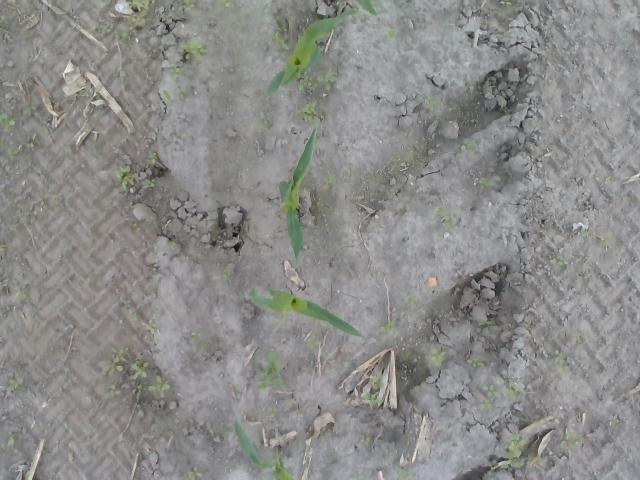Maize: (264, 10, 354, 98), (244, 286, 364, 338), (278, 128, 316, 268), (233, 416, 295, 480), (352, 0, 380, 17)
Weeds: (104, 344, 170, 400), (495, 432, 529, 469), (256, 351, 284, 390), (298, 72, 338, 92), (361, 374, 384, 408), (176, 37, 208, 61), (431, 204, 458, 232), (126, 0, 152, 28), (116, 164, 141, 192), (479, 384, 521, 399), (298, 101, 320, 127), (559, 427, 584, 449), (270, 23, 290, 49), (460, 134, 481, 153), (392, 464, 416, 480), (32, 191, 52, 210), (380, 318, 399, 338), (430, 346, 448, 366), (190, 331, 208, 349), (112, 64, 130, 81), (548, 254, 571, 266), (0, 112, 17, 128), (184, 466, 203, 480), (168, 64, 184, 80), (554, 350, 568, 368), (306, 335, 322, 350), (424, 94, 440, 108), (322, 176, 337, 190), (479, 176, 492, 192), (113, 30, 129, 43), (126, 304, 138, 321), (142, 320, 156, 334), (266, 404, 280, 418), (7, 378, 23, 390), (384, 27, 400, 39), (142, 178, 158, 190), (228, 382, 239, 399), (467, 357, 483, 368), (15, 287, 25, 304), (6, 148, 18, 162), (128, 220, 142, 232), (183, 0, 194, 14), (479, 320, 496, 329), (148, 150, 160, 162), (608, 418, 622, 428), (6, 432, 16, 446), (164, 88, 173, 103), (478, 400, 491, 410), (258, 120, 272, 129), (405, 294, 417, 304), (497, 0, 512, 8), (224, 0, 241, 7), (581, 227, 589, 241), (95, 26, 113, 32), (177, 88, 189, 97), (22, 104, 35, 112), (414, 143, 424, 153), (352, 474, 368, 480), (223, 271, 233, 280), (604, 176, 615, 184), (80, 88, 90, 96), (360, 436, 370, 444), (384, 448, 392, 456), (0, 136, 6, 146), (0, 244, 7, 252), (168, 241, 176, 248)
